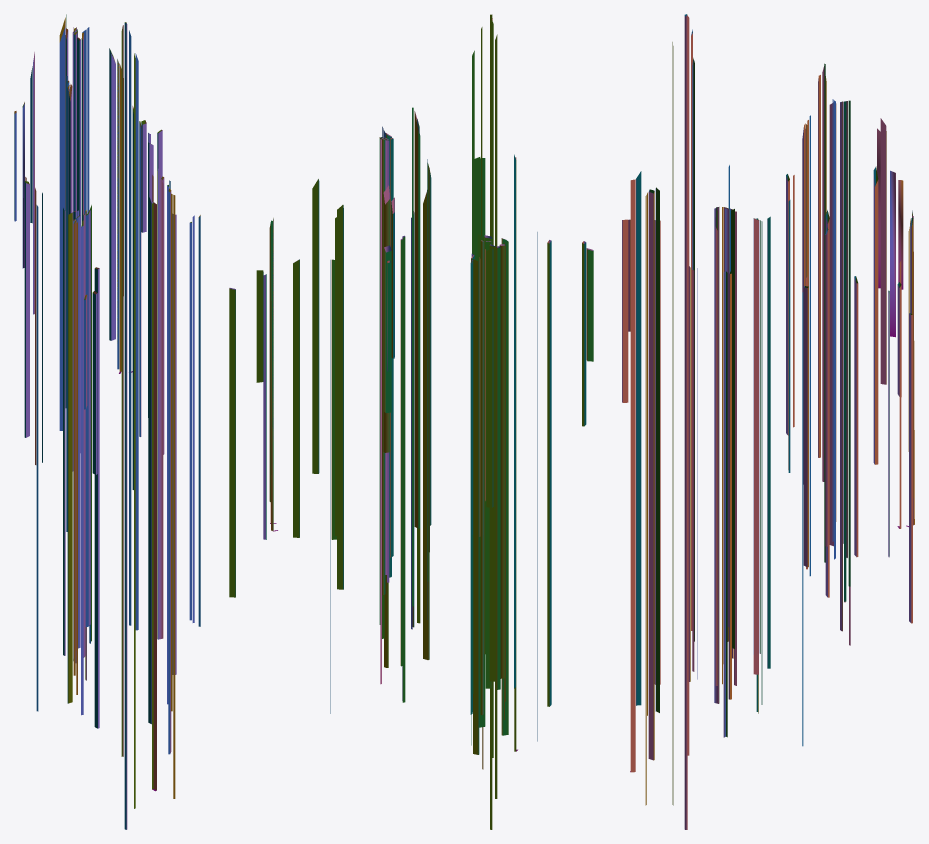
File: zeometry-basic-shapes-line-cluster_v2.glb
3 renders of one model, left to right at view 1: azimuth 30°, elevation 25°; view 2: azimuth 150°, elevation 25°; view 3: azimuth 270°, elevation 25°, orthographic.
Visible parts, largest first — view 1: Line Cluster_v2; view 2: Line Cluster_v2; view 3: Line Cluster_v2.
Part boxes in pixels (x1,y1,x2,y2): Line Cluster_v2: (14,14,200,829); Line Cluster_v2: (229,14,593,829); Line Cluster_v2: (622,14,914,829).
Bounding box in the file's own units: 0.1423 × 0.5 × 0.1627.
